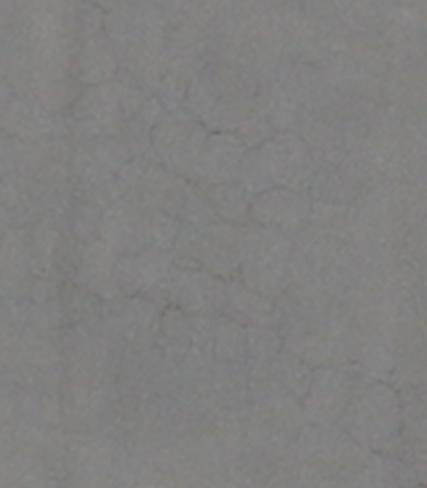fissura: (145, 97, 401, 443)
